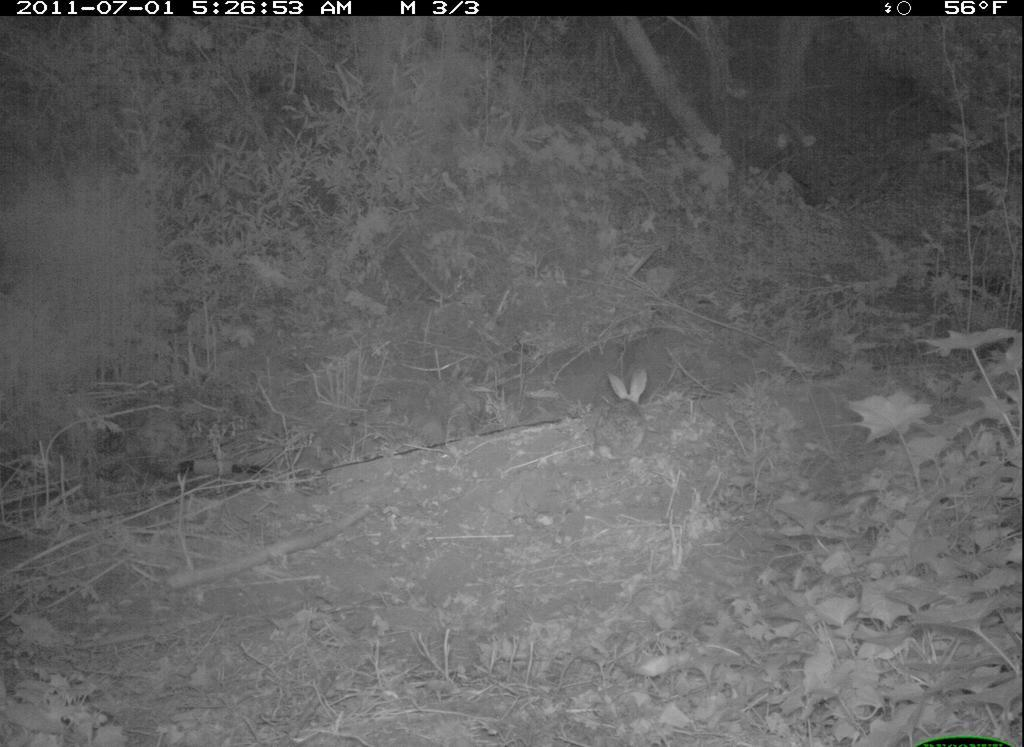rabbit: (583, 356, 665, 473)
